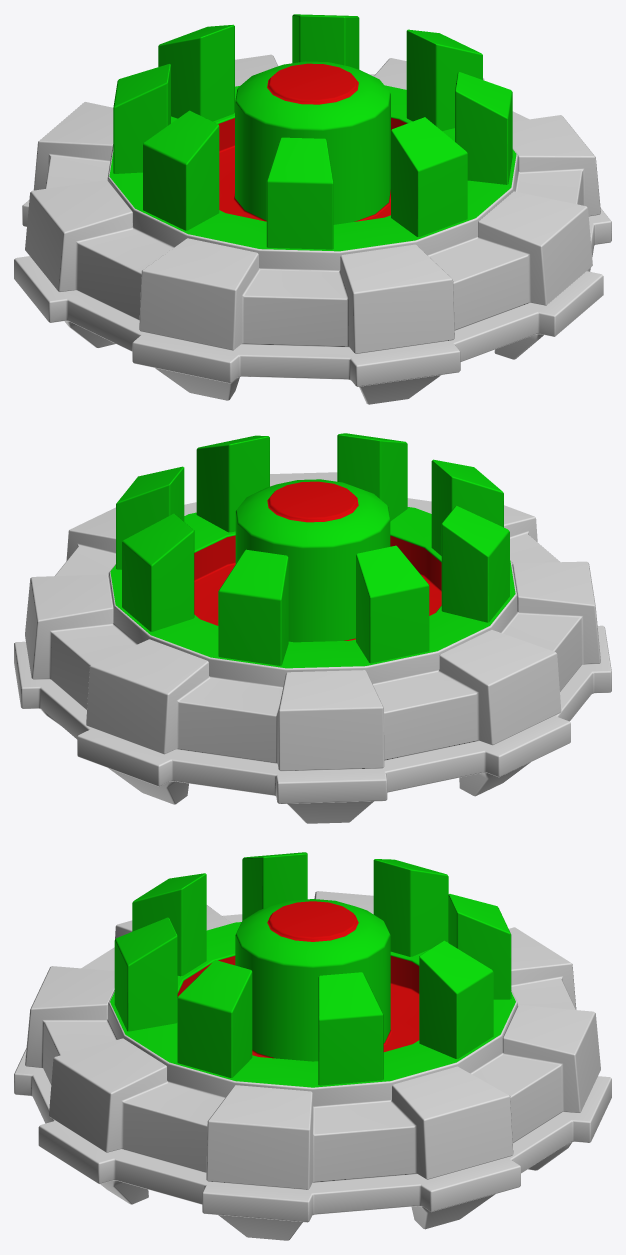
The model's file is SM_Trap_SlowDownMine.fbx.
3 views of the same model, one above another, from view 1: azimuth 30°, elevation 25°; view 2: azimuth 150°, elevation 25°; view 3: azimuth 270°, elevation 25° (orthographic).
Visible parts, largest first — view 1: SlowdownMine; view 2: SlowdownMine; view 3: SlowdownMine.
Boxes of the visible parts, bbox=[...] form: SlowdownMine: bbox=[14, 14, 611, 404]; SlowdownMine: bbox=[14, 433, 611, 823]; SlowdownMine: bbox=[14, 852, 611, 1240].
Bounding box in the file's own units: 38.29 × 38.29 × 16.18.
